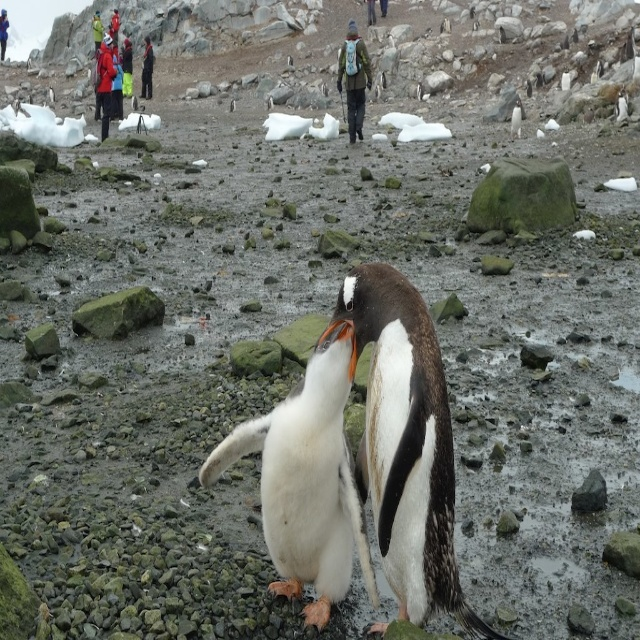Penguin: (316, 268, 496, 640), (189, 320, 384, 639), (613, 92, 637, 122), (513, 99, 524, 141), (561, 69, 571, 93), (562, 36, 572, 54), (442, 18, 451, 36), (48, 88, 57, 105), (130, 94, 139, 111), (596, 56, 604, 75), (230, 97, 237, 114), (417, 84, 424, 101), (528, 79, 534, 97), (12, 96, 19, 111), (321, 81, 328, 96), (269, 95, 276, 109), (374, 86, 381, 99), (424, 29, 434, 38), (536, 74, 542, 89), (381, 74, 388, 86), (288, 54, 293, 70), (474, 22, 482, 32), (572, 31, 578, 44), (26, 58, 32, 69), (469, 9, 474, 20)
